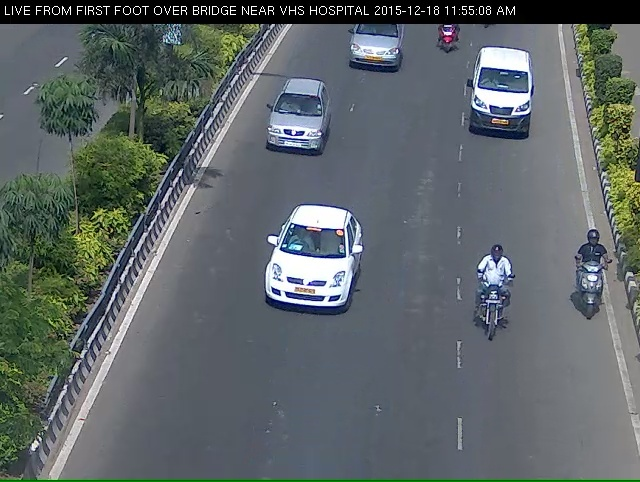Car: (254, 225, 362, 348), (462, 55, 548, 155), (260, 91, 326, 165), (339, 22, 402, 84)
Person: (471, 263, 526, 379), (565, 236, 620, 345), (426, 21, 460, 60)
